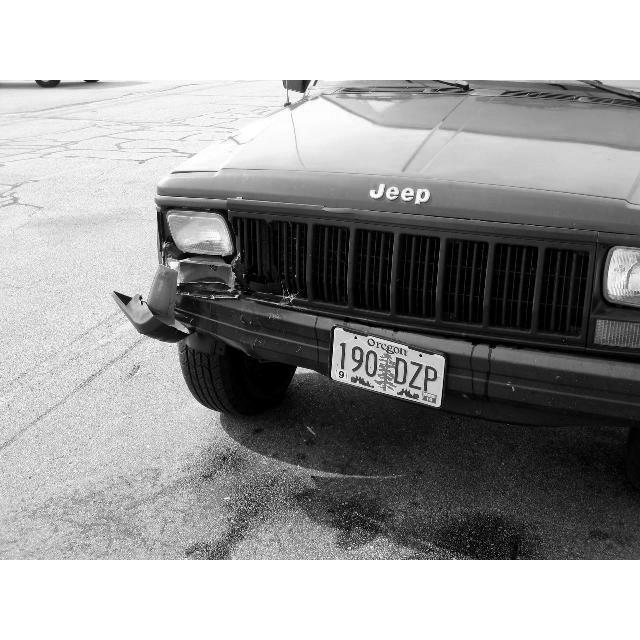Headlight-damage: (133, 203, 241, 353)
